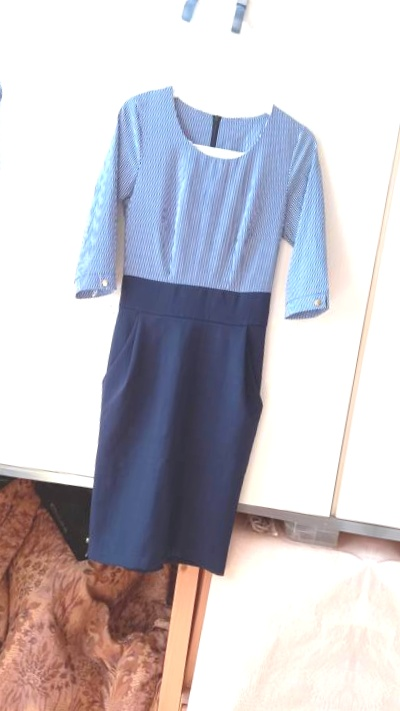Dress: (9, 38, 368, 628), (0, 0, 43, 573)
